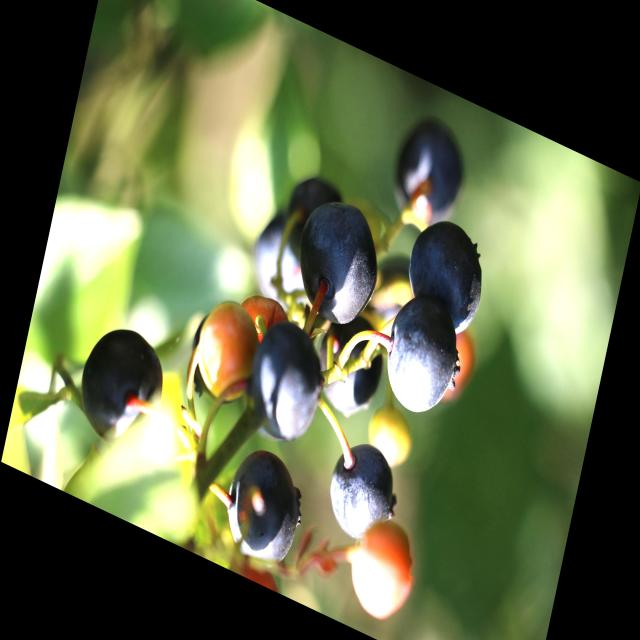blueberry: (289, 186, 391, 340), (234, 303, 335, 455), (210, 430, 310, 578), (74, 316, 172, 463), (395, 205, 496, 340), (375, 287, 469, 432), (380, 102, 478, 238), (315, 427, 404, 552), (307, 302, 394, 428), (239, 200, 324, 328)
blueberry-halfripe: (188, 291, 262, 410), (342, 513, 418, 628)
